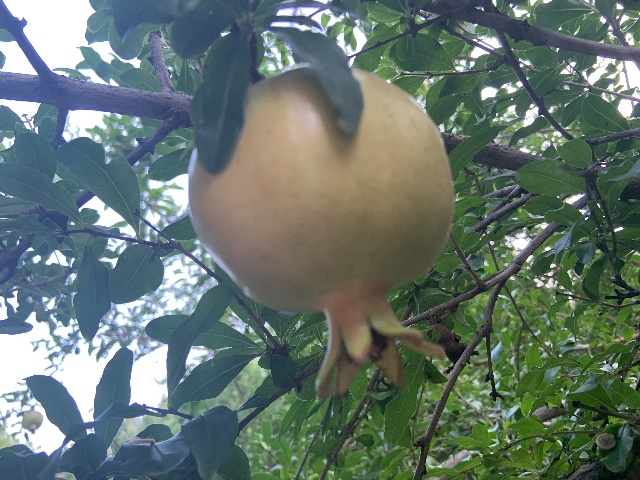mid-growth: (188, 67, 456, 400)
